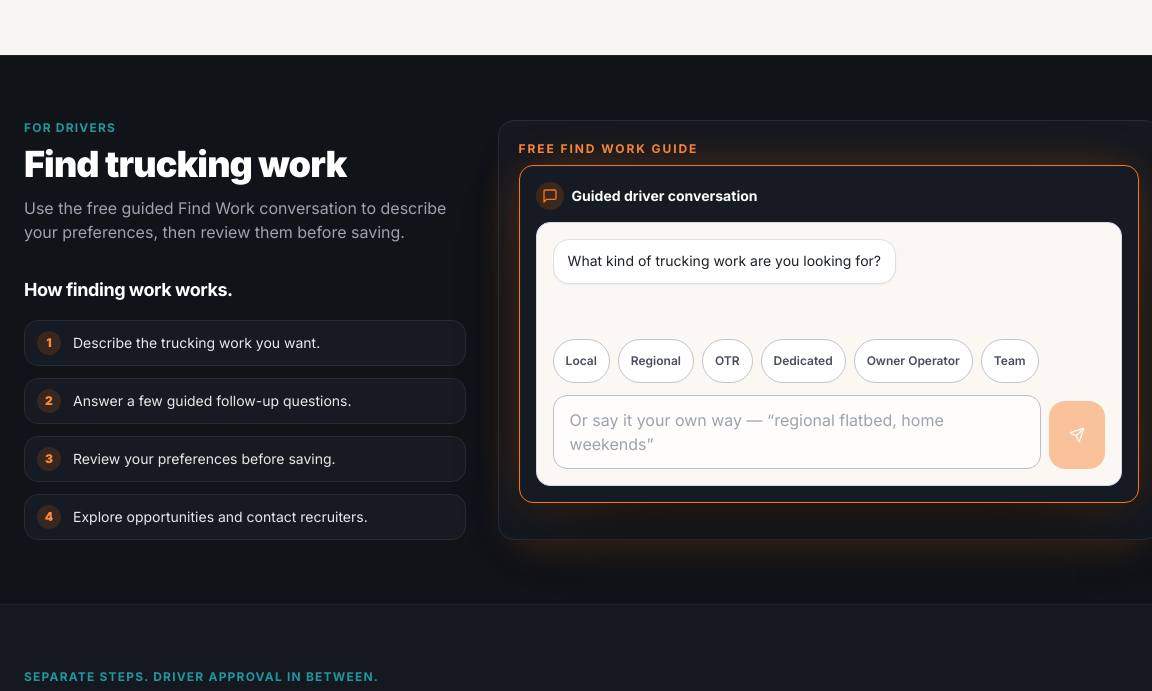
Test case: Homepage — audience-first front door with guided driver conversation › quick replies answer the question in place rather than navigating away
(page scrolled)
Click the button with test id "home-conversation-chip-regional". click: (656, 361)
box: [618,339,694,383]
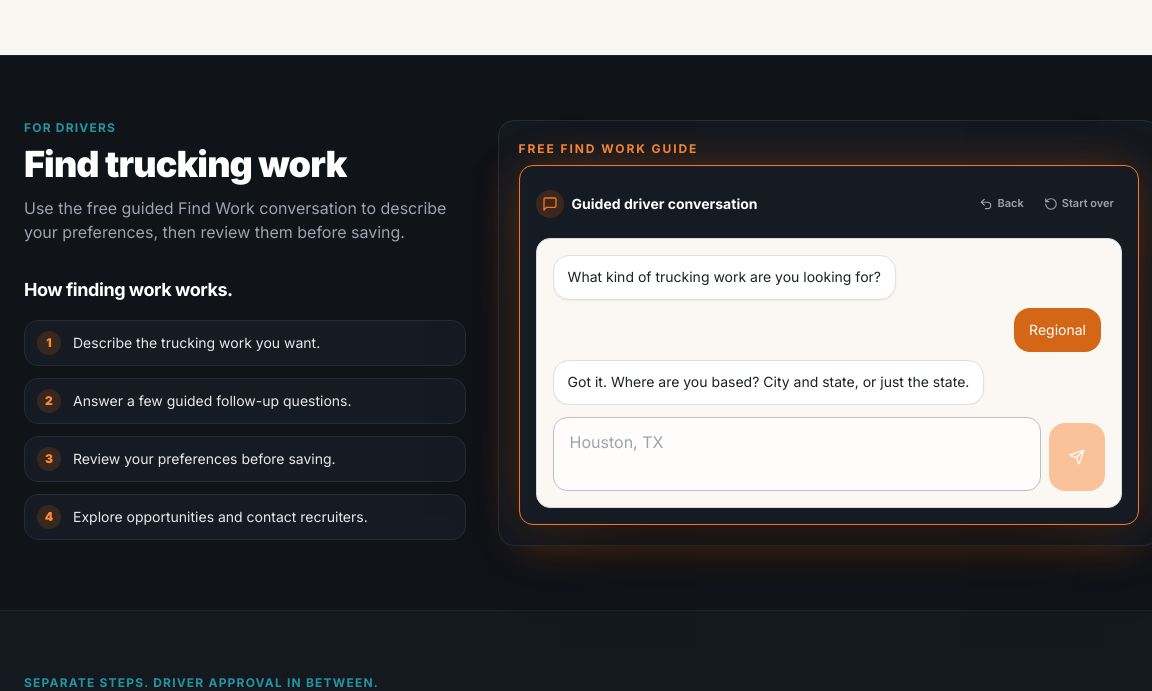
Result: the element with test id "home-conversation-transcript" shows "Regional" at [1029,320,1086,338]
